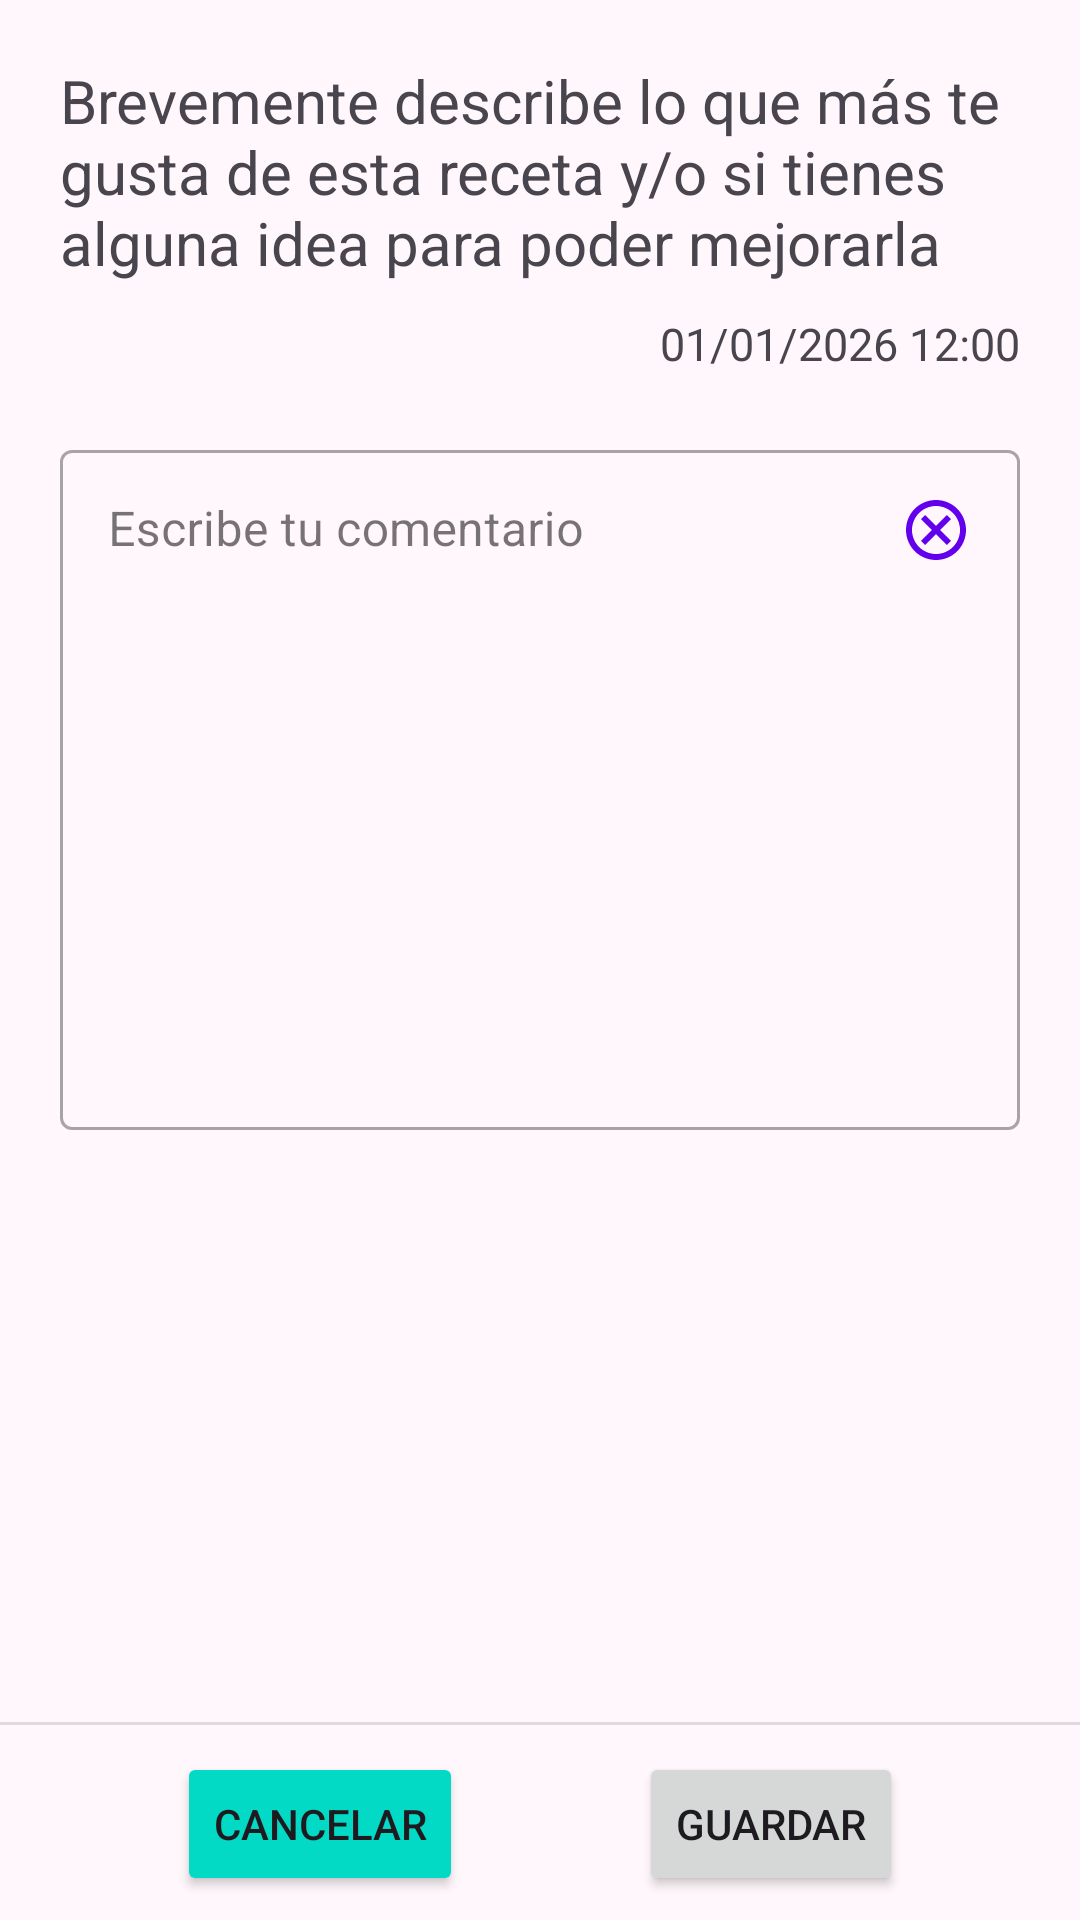

Icon bounding boxes for this 1080×1920 phone screenshot, format (x1, y1, x2, y2):
cancel: (906, 500, 966, 560)
